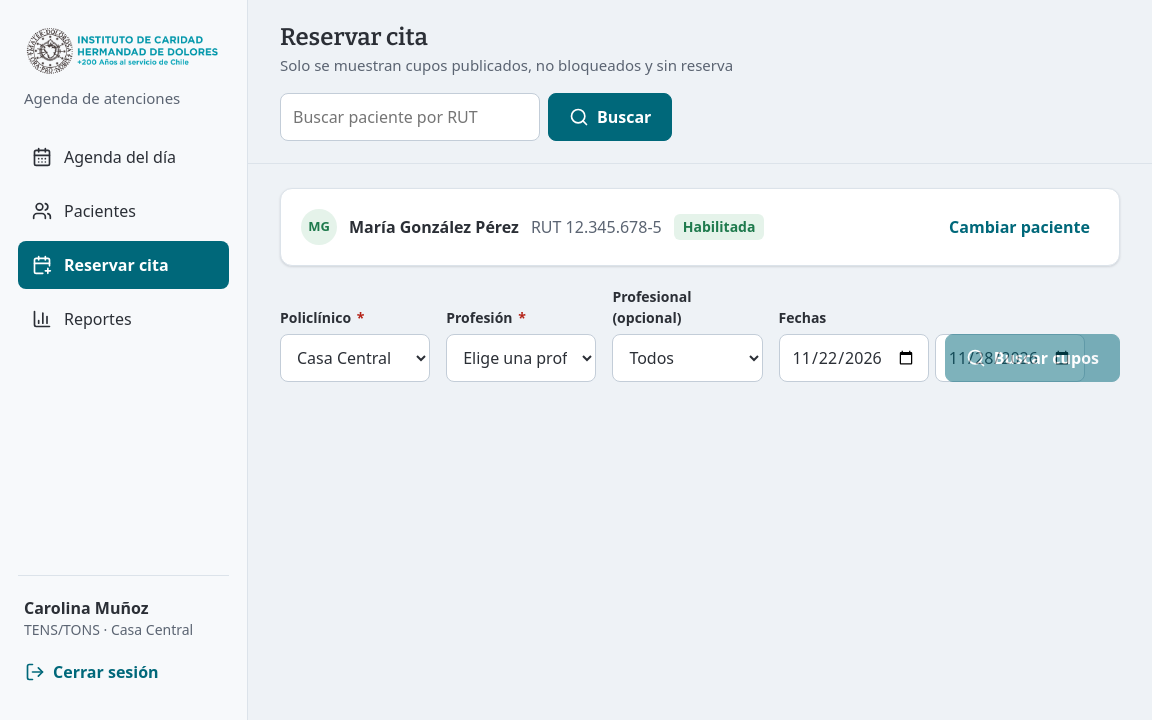
it: Reservar cita: recorrido A (CU-04) › quita de la lista de espera aunque una inscripción ya estuviera retirada (doble clic)
The width and height of the screenshot is (1152, 720).
Select "Medicina" in the dropdown labelled "Profesión *": (521, 358) [446,334,596,382]
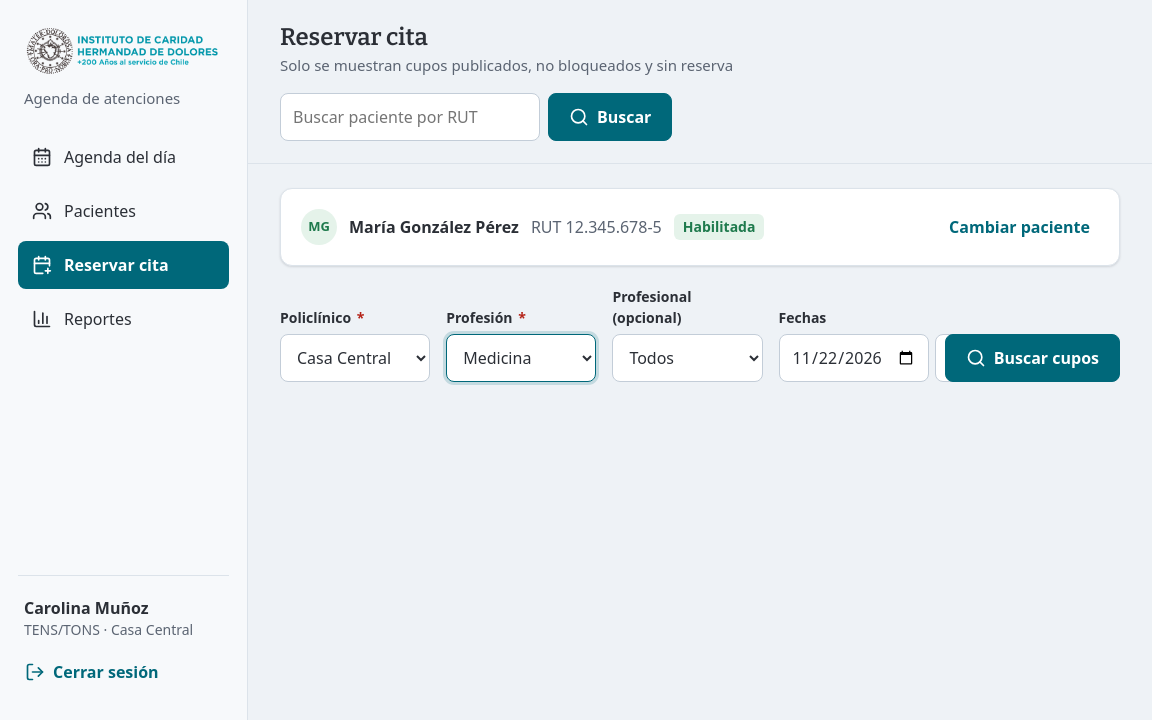
Click the button "Buscar cupos": click(1032, 358) [945,334,1120,382]
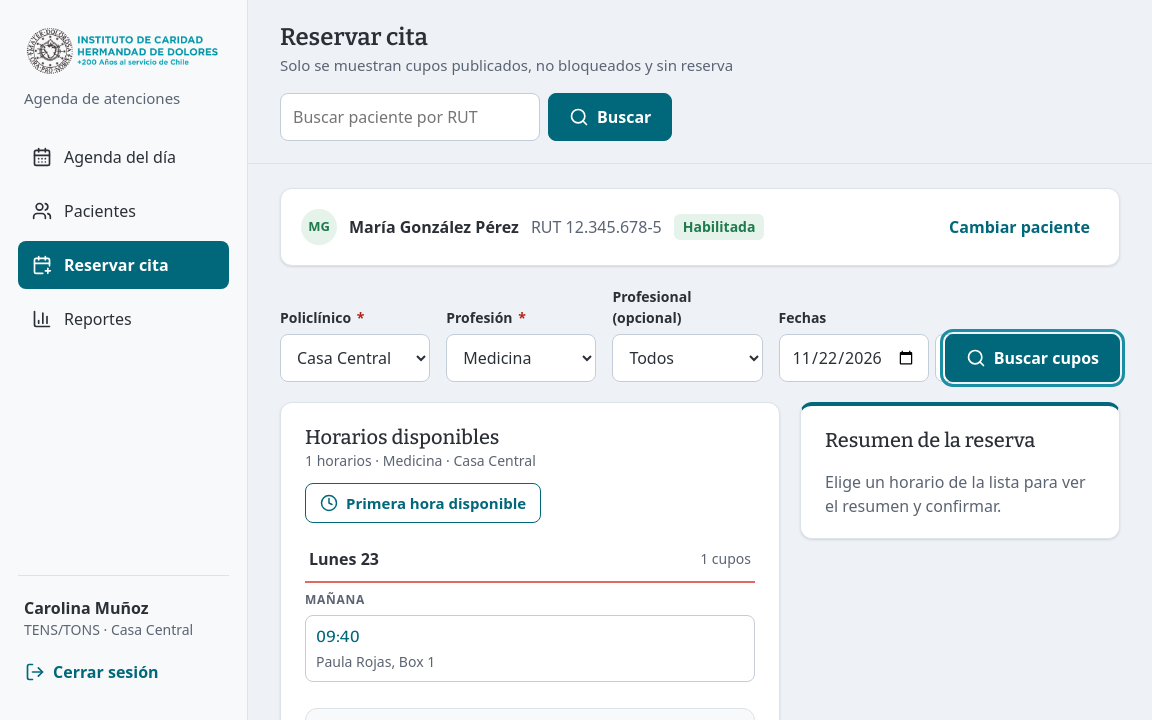
Click the button "09:40Paula Rojas, Box 1": click(338, 636) [305,614,755,682]
(page scrolled)
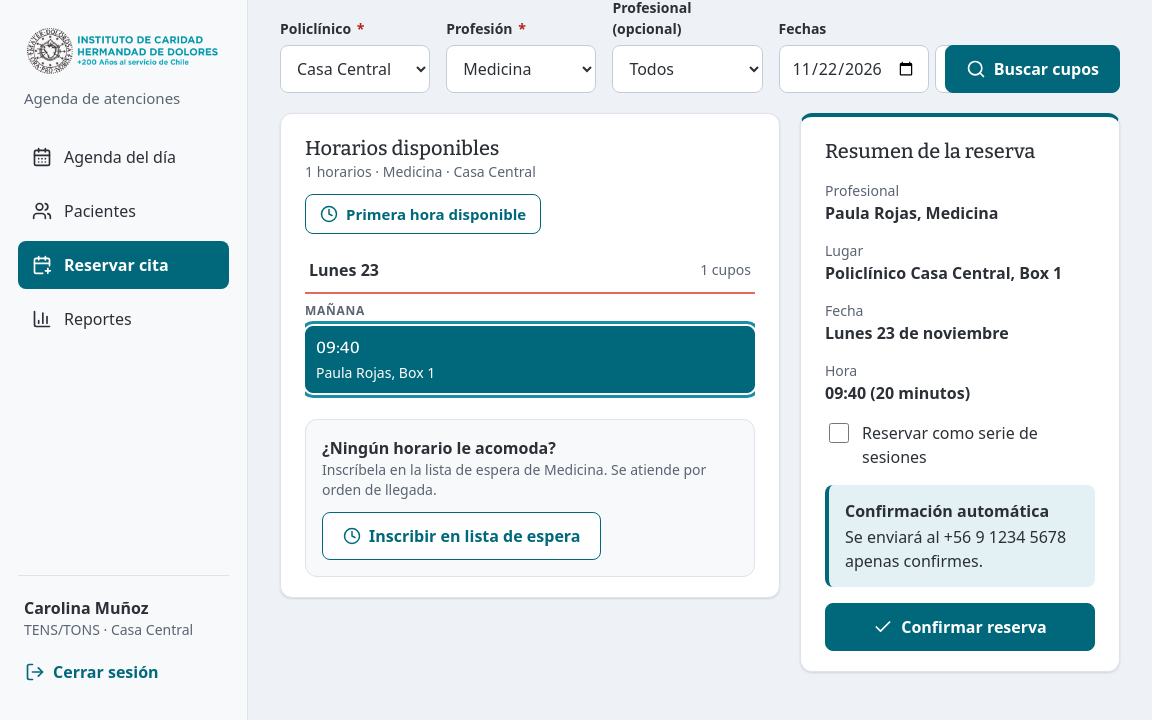
Click the button "Confirmar reserva": click(960, 626) [825,602,1095,650]
(page scrolled)
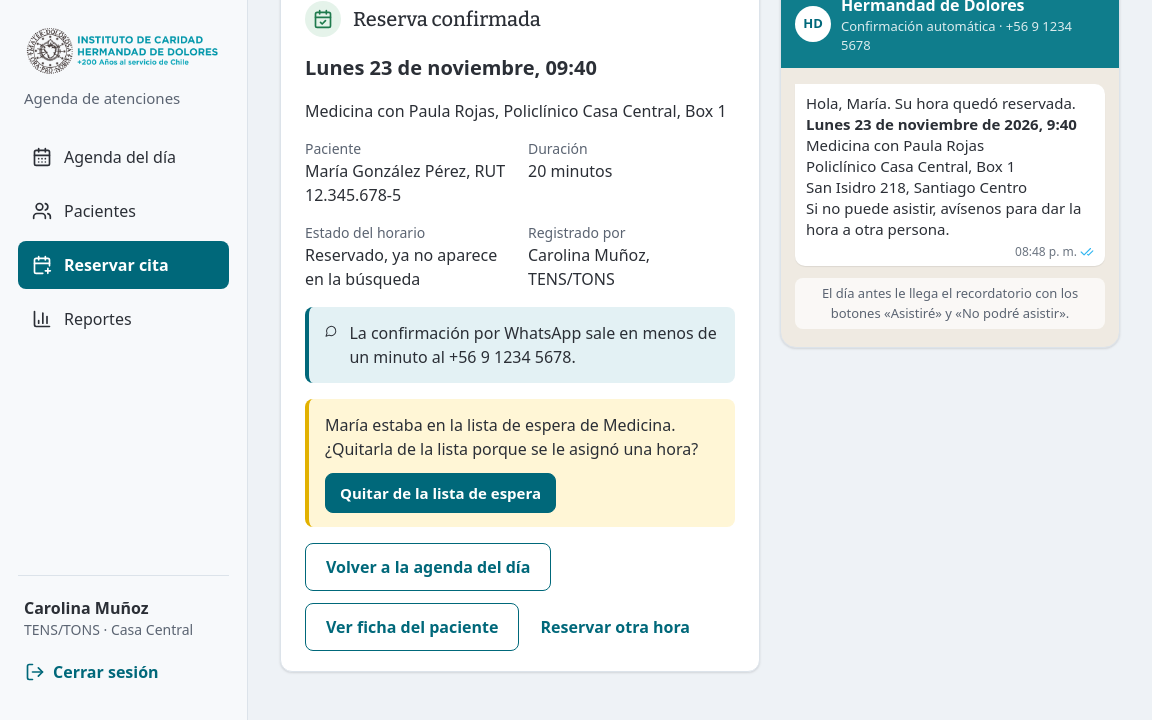
Click the button "Quitar de la lista de espera": click(440, 492) [325,472,556,512]
(page scrolled)
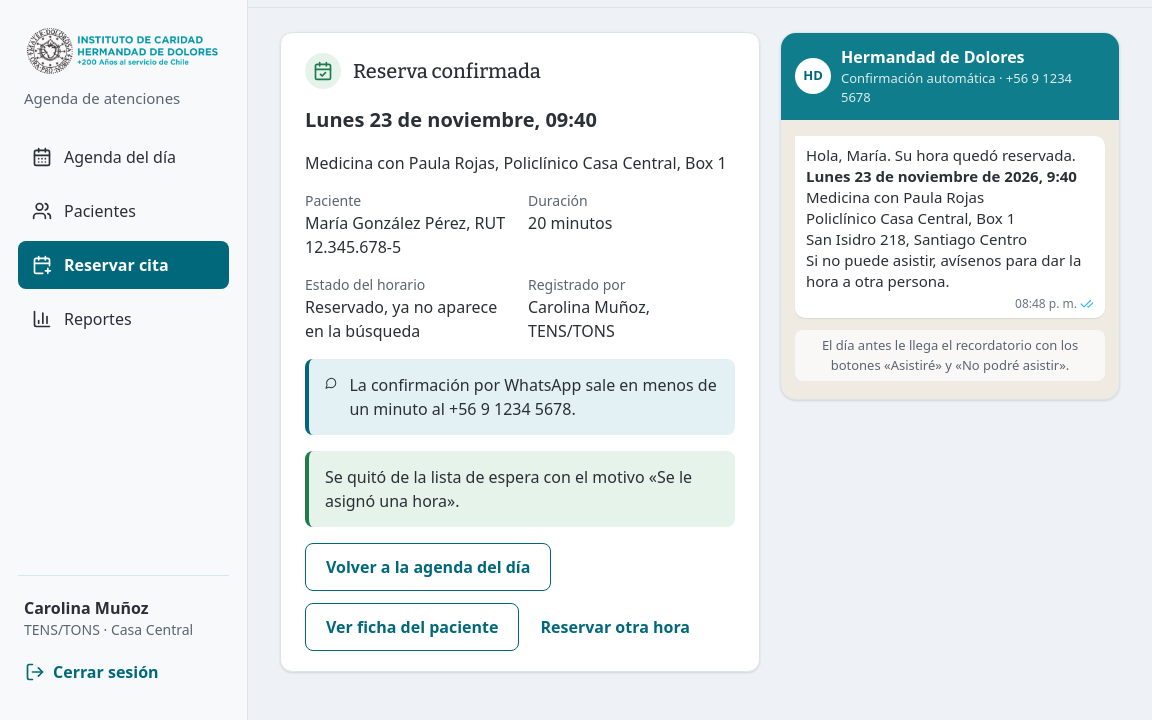
Now the text "Se quitó de la lista de espera" is shown, box [325,466,692,512]
